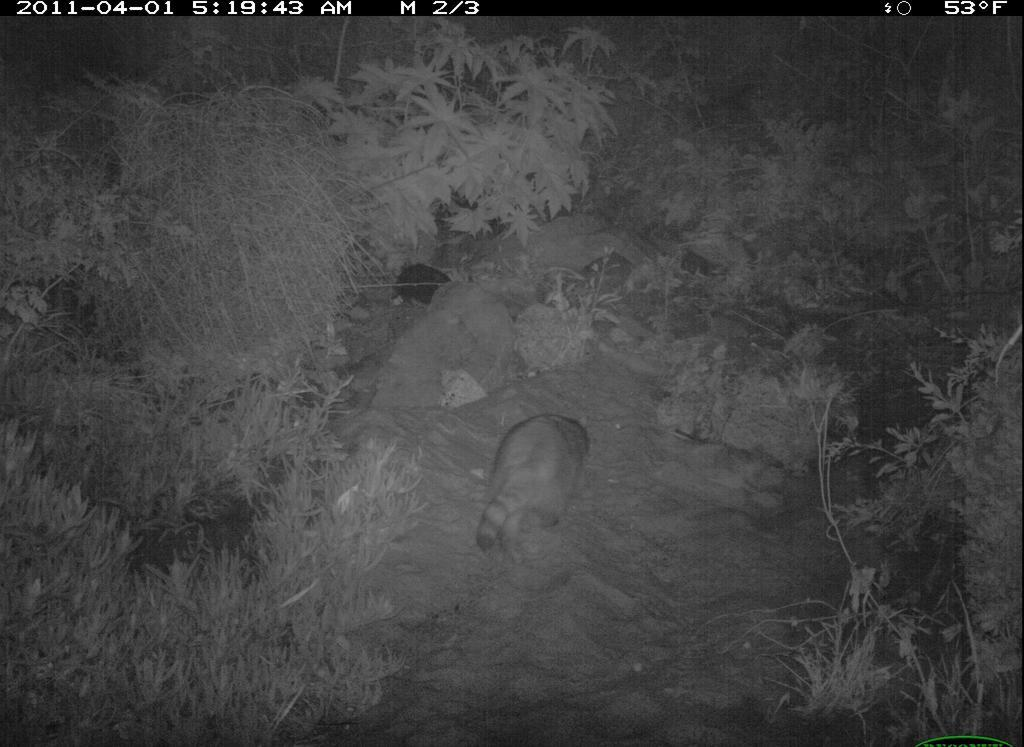raccoon: (474, 409, 603, 565)
